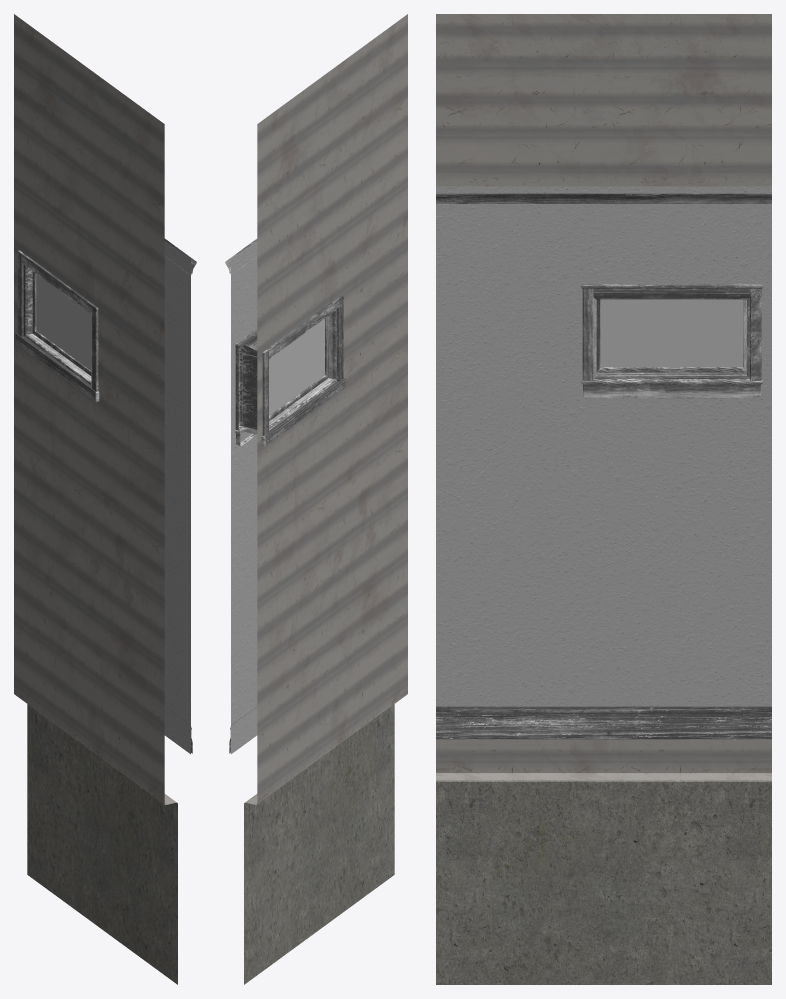
File: SM_Window_Floor1_A5_200.fbx
The picture shows the model from 3 angles, left to right: view 1: azimuth 30°, elevation 25°; view 2: azimuth 150°, elevation 25°; view 3: azimuth 270°, elevation 25°; orthographic projection. The views are drawn at different scales.
Visible parts, largest first — view 1: SM_Window_Floor1_A5_200; view 2: SM_Window_Floor1_A5_200; view 3: SM_Window_Floor1_A5_200.
Part boxes in pixels (x1,y1,x2,y2): SM_Window_Floor1_A5_200: (14, 14, 196, 984); SM_Window_Floor1_A5_200: (225, 14, 407, 984); SM_Window_Floor1_A5_200: (436, 14, 771, 984).
Size of the model in its own units: 19.05 by 140 by 443.
Materials: 6 (5 with a texture image).
